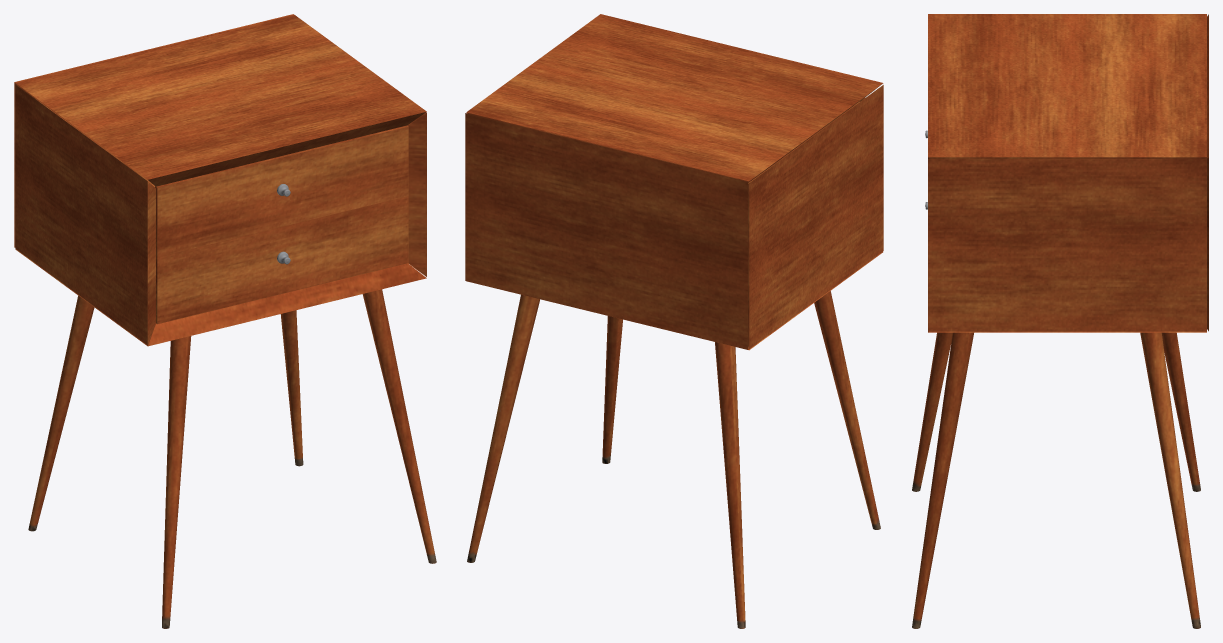
The model's file is nightstand.glb.
The picture shows the model from 3 angles, left to right: view 1: azimuth 30°, elevation 25°; view 2: azimuth 150°, elevation 25°; view 3: azimuth 270°, elevation 25°; orthographic projection. The views are drawn at different scales.
Parts seen in each view (by area): view 1: Object003_Material _4_0; view 2: Object003_Material _4_0; view 3: Object003_Material _4_0.
Part boxes in pixels (left/top/right/bottom): Object003_Material _4_0: left=14, top=14, right=436, bottom=628; Object003_Material _4_0: left=465, top=14, right=883, bottom=628; Object003_Material _4_0: left=912, top=14, right=1208, bottom=628.
Bounding box in the file's own units: 0.4431 × 0.6684 × 0.3829.
1 material, 1 textured.
